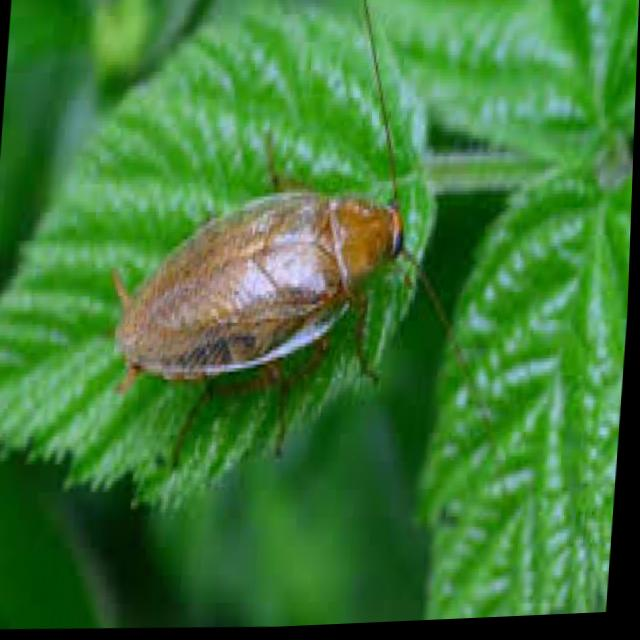Cockroach: (69, 0, 553, 585)
